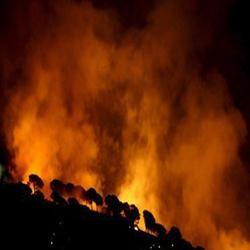fire: (122, 189, 151, 219), (24, 167, 39, 181)
